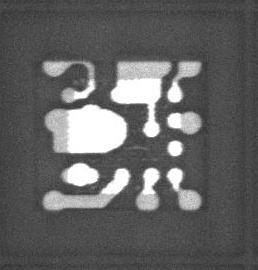NO_DIE: (33, 60, 205, 212)
